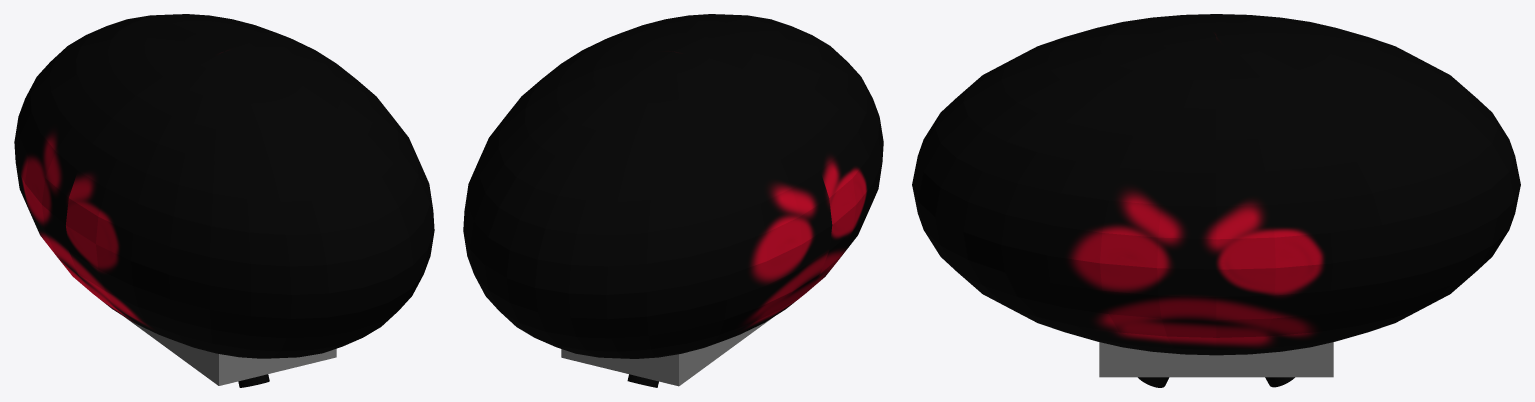
File: BlimpModel.glb
3 renders of one model, left to right at view 1: azimuth 30°, elevation 25°; view 2: azimuth 150°, elevation 25°; view 3: azimuth 270°, elevation 25°, orthographic. The views are drawn at different scales.
Parts seen in each view (by area): view 1: Sphere; view 2: Sphere; view 3: Sphere.
Boxes of the visible parts, x1,y1,x2,y2 form: Sphere: (14,14,434,387); Sphere: (463,14,883,387); Sphere: (912,14,1520,387).
Bounding box in the file's own units: 2.7 × 2.58 × 4.08.
Materials: 3 (1 with a texture image).
